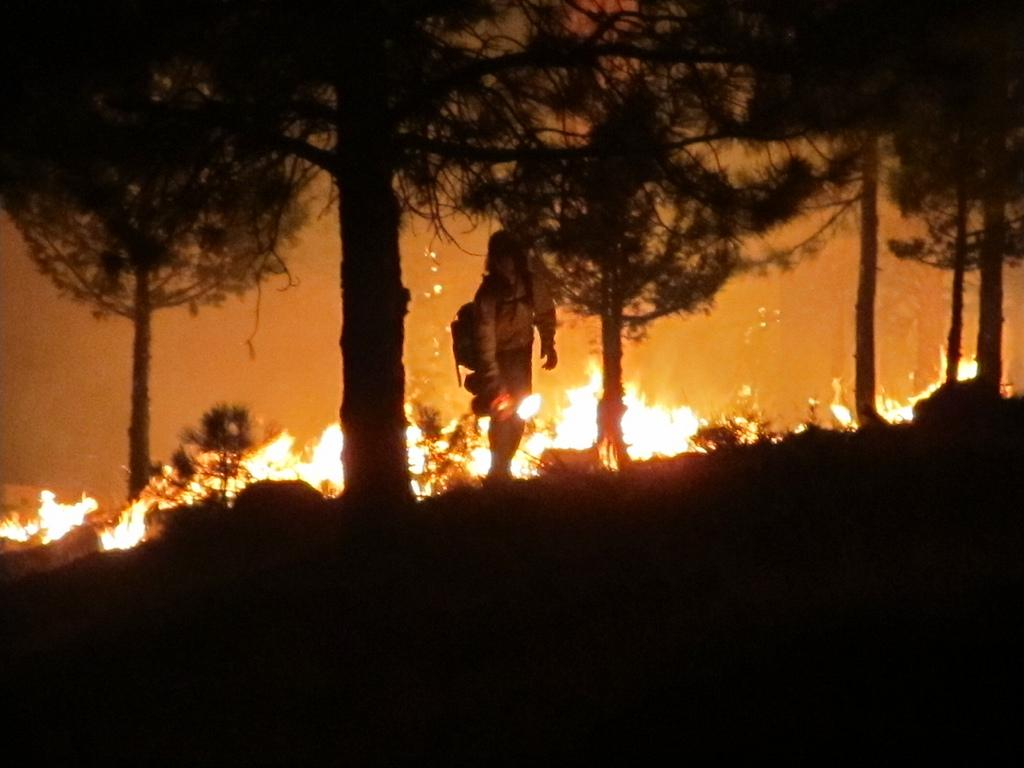fire: (20, 494, 148, 546), (258, 428, 354, 486), (622, 386, 696, 450), (524, 396, 594, 444)
